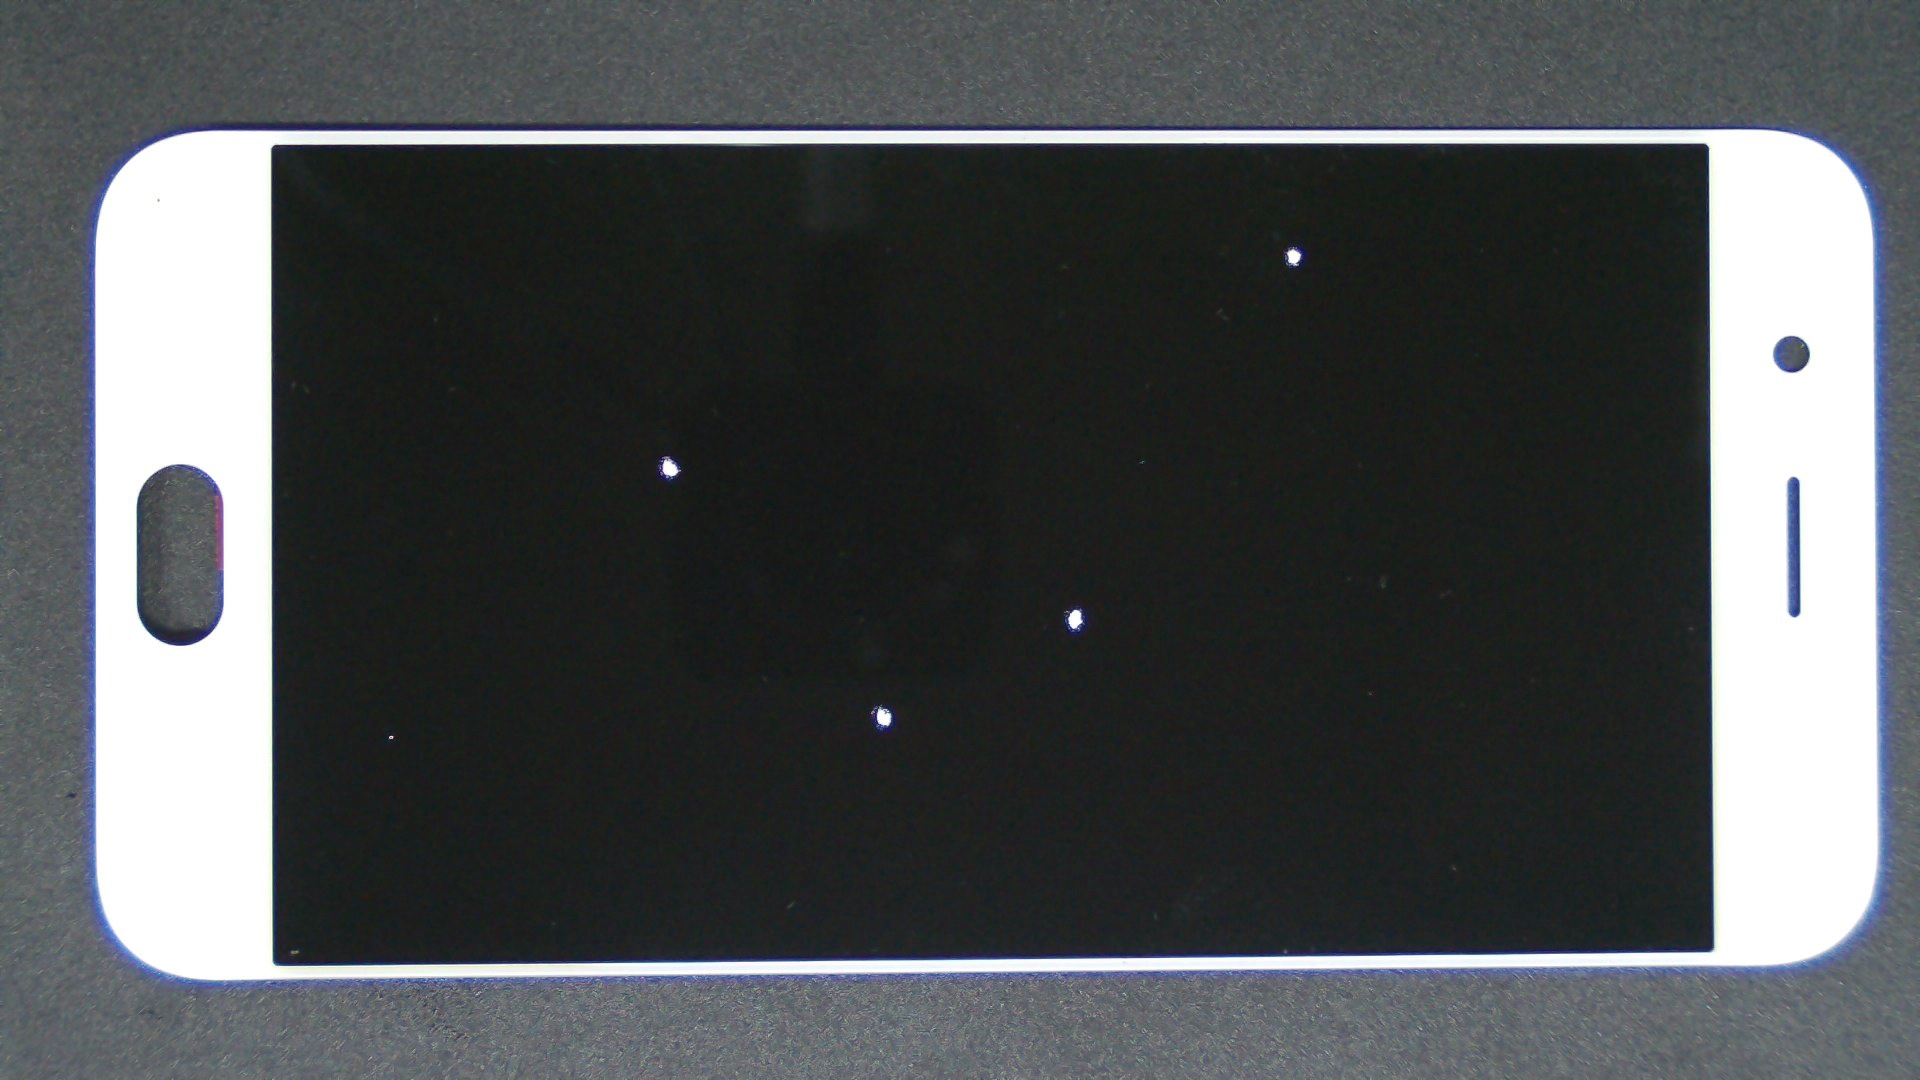oil: (538, 303, 1614, 911), (440, 351, 1320, 1055), (647, 123, 1920, 368), (334, 227, 997, 682)
